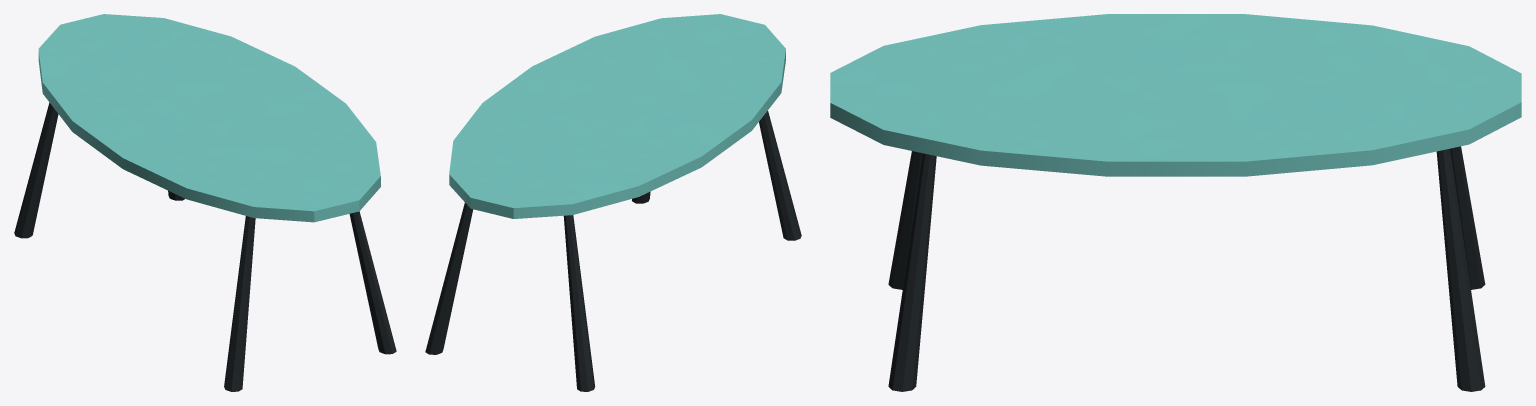
The model's file is Table_03_04.fbx.
3 views of the same model, side by side, from view 1: azimuth 30°, elevation 25°; view 2: azimuth 150°, elevation 25°; view 3: azimuth 270°, elevation 25° (orthographic). The views are drawn at different scales.
Parts seen in each view (by area): view 1: Table_03_04; view 2: Table_03_04; view 3: Table_03_04.
Boxes of the visible parts, <box> form: Table_03_04: <box>14,14,396,391</box>; Table_03_04: <box>425,14,801,391</box>; Table_03_04: <box>830,14,1521,391</box>.
Size of the model in its own units: 1.07 by 0.8341 by 2.11.
